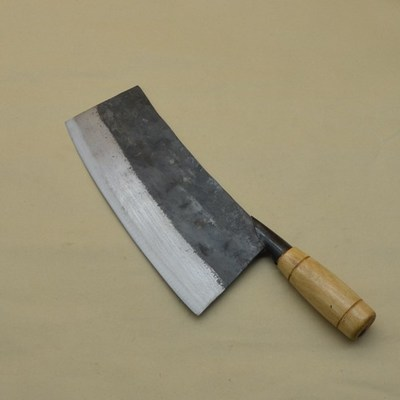knief: (59, 88, 373, 334)
